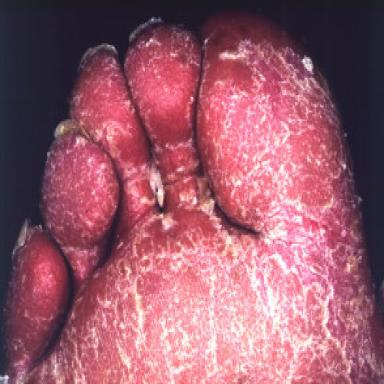eczema: (5, 13, 384, 382)
